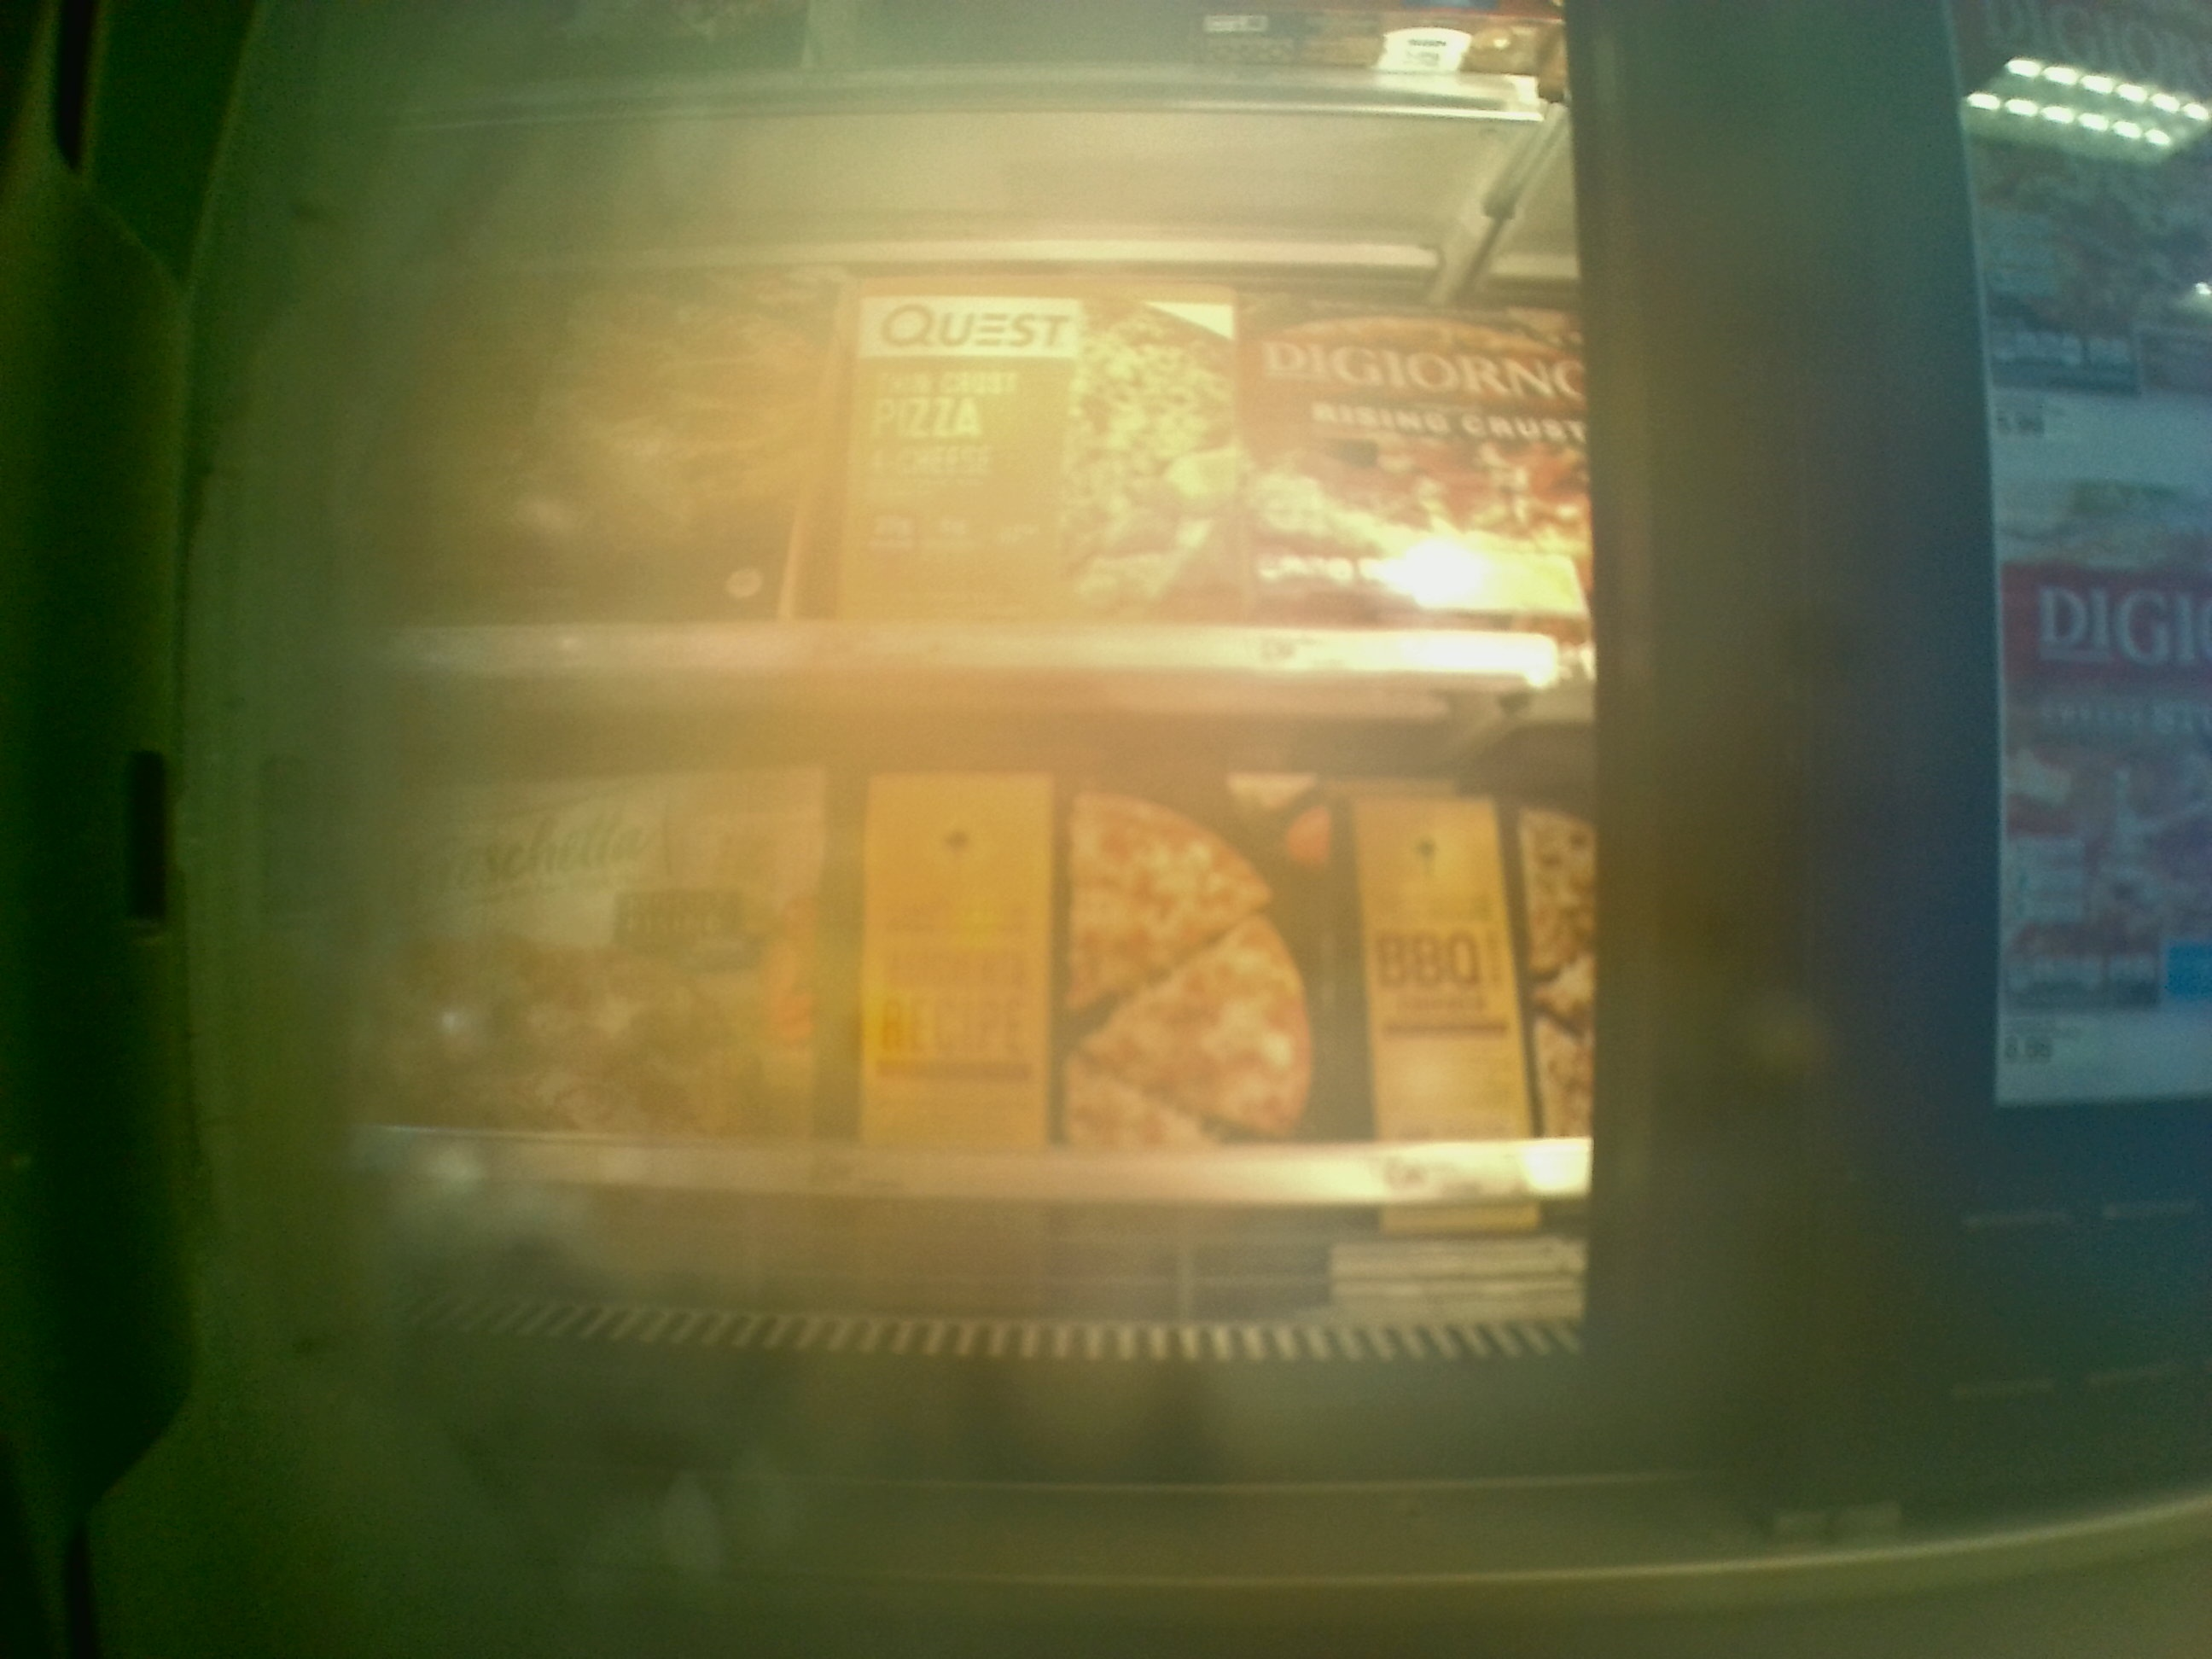shelf: (327, 653, 1590, 1361)
